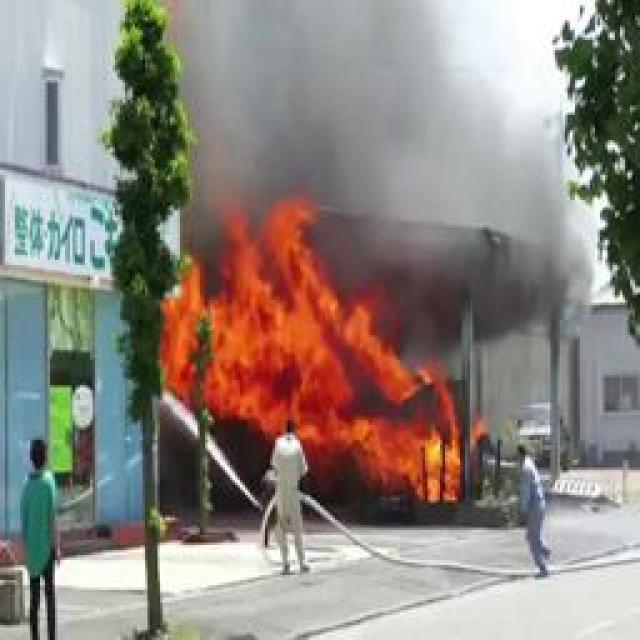Fire: (182, 197, 454, 506), (162, 262, 210, 408)
Smoke: (165, 14, 514, 190), (442, 144, 590, 332)
